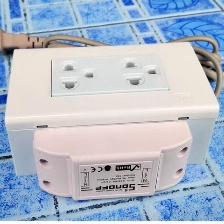three_eye_plug: (1, 38, 221, 194)
